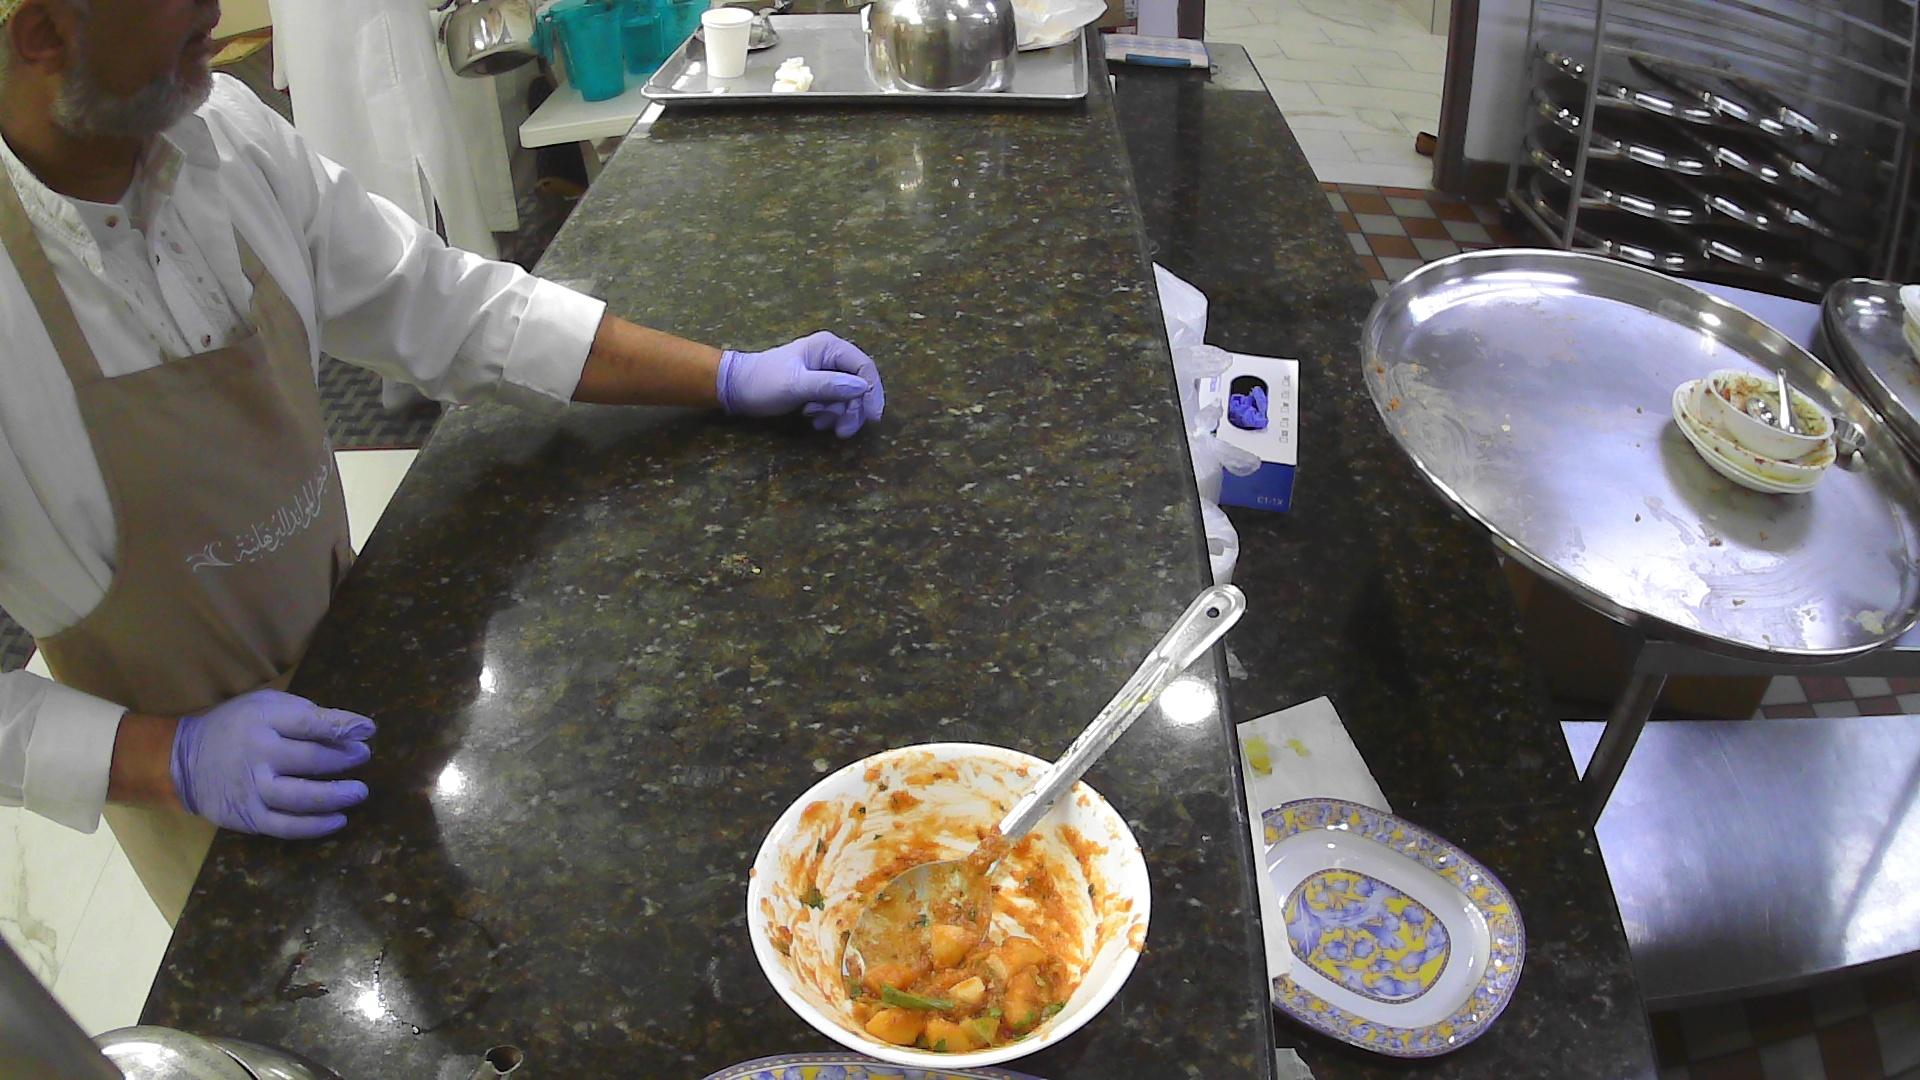thaal: (1360, 244, 1920, 671), (1816, 268, 1920, 468)
